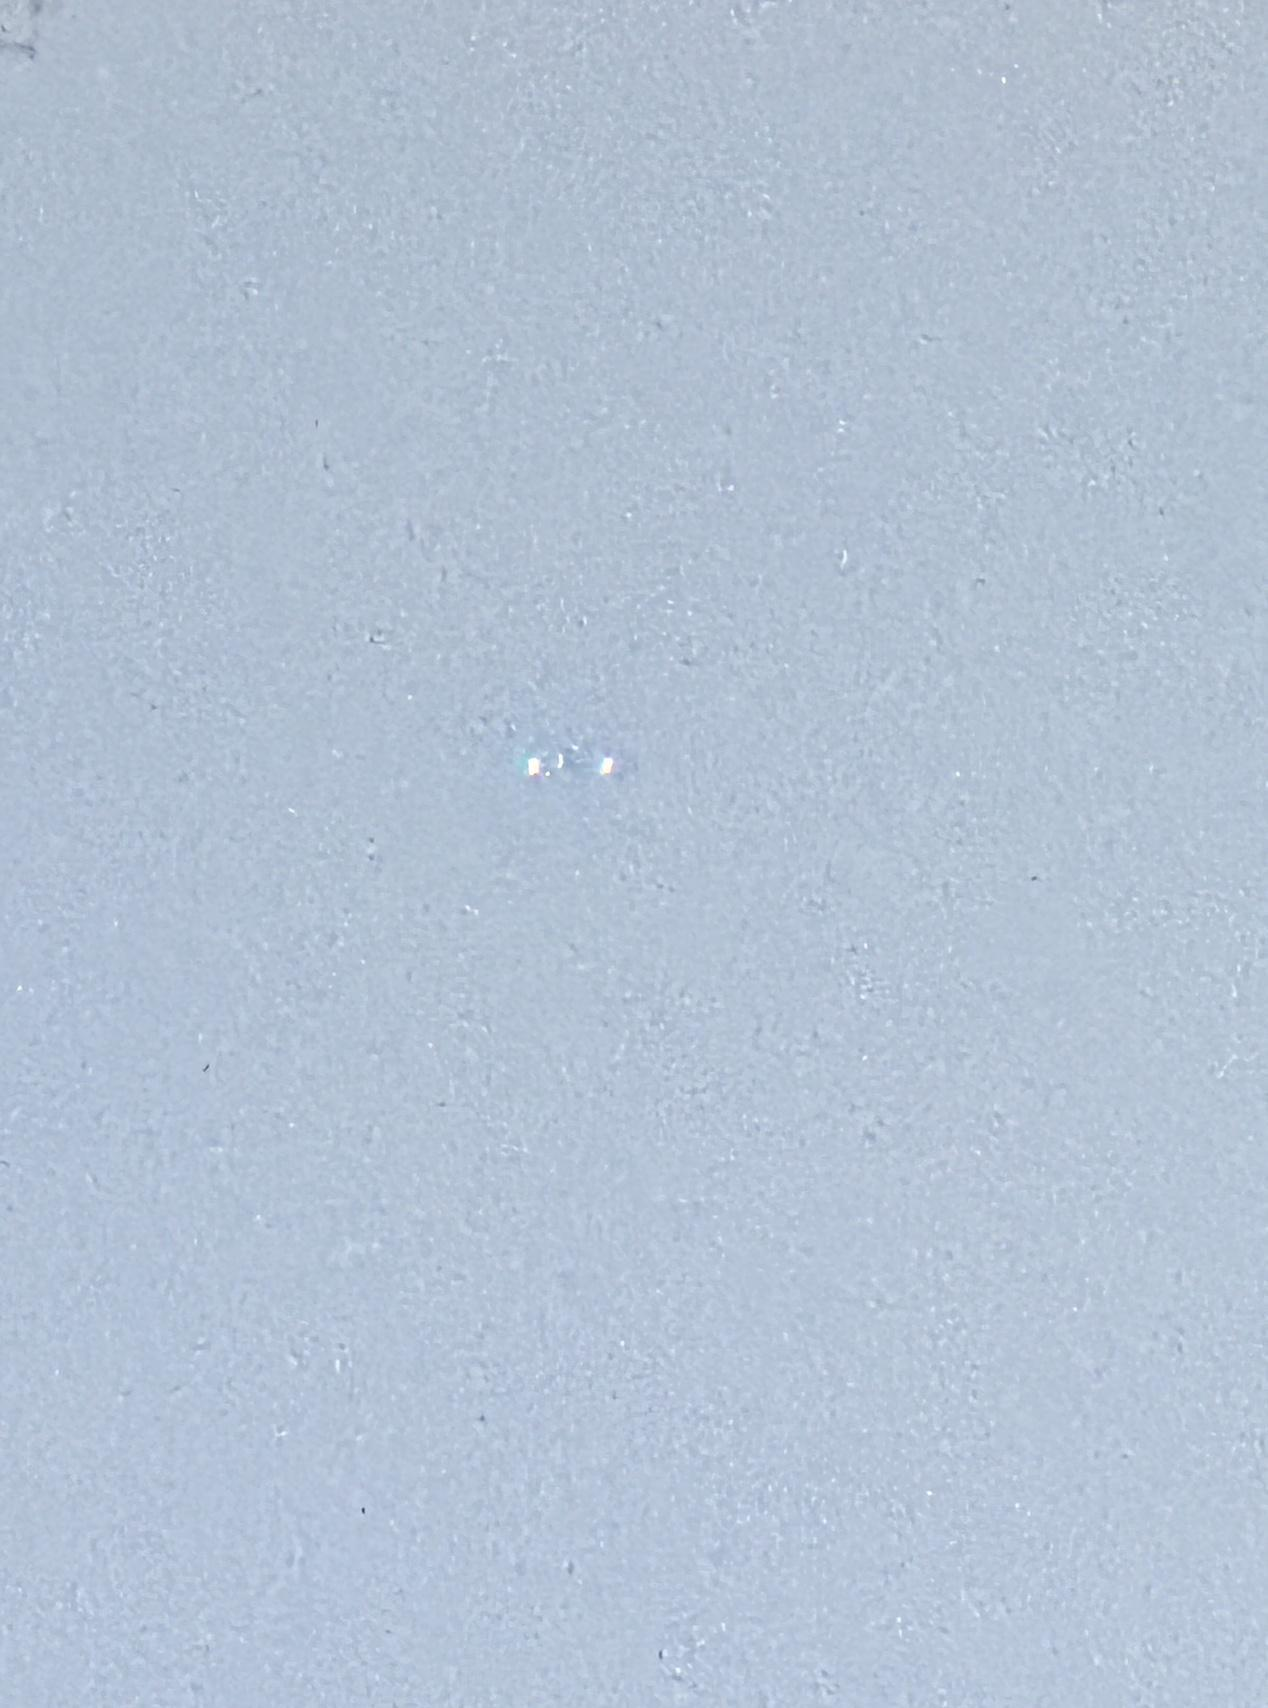Plane: (472, 742, 698, 801)
